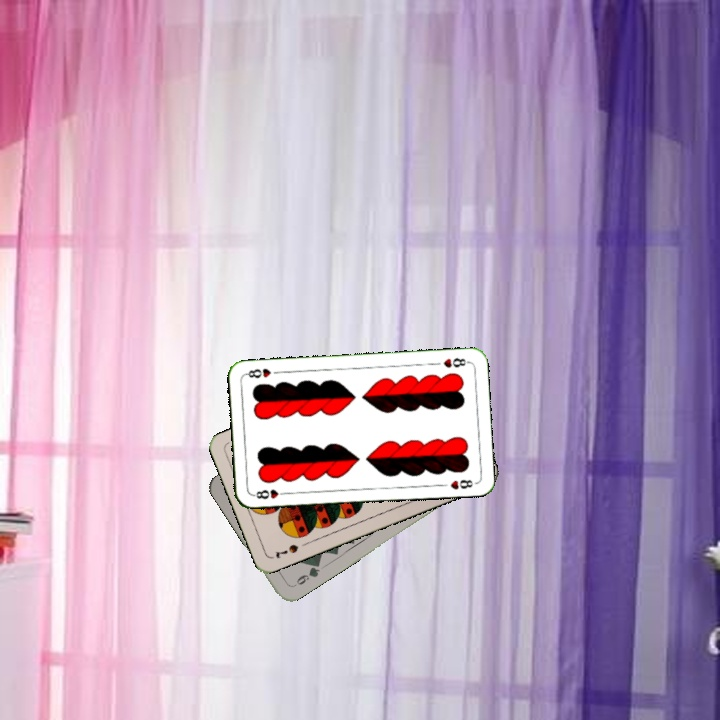G9: (288, 560, 322, 590)
H8: (249, 485, 290, 502), (439, 353, 471, 370)
S7: (271, 540, 301, 561)
